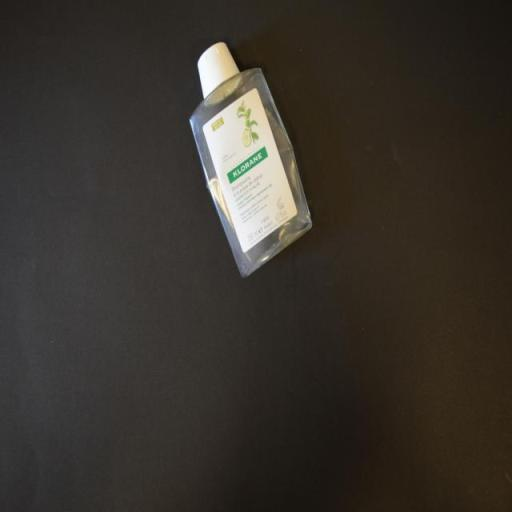plastic: (188, 38, 315, 285)
